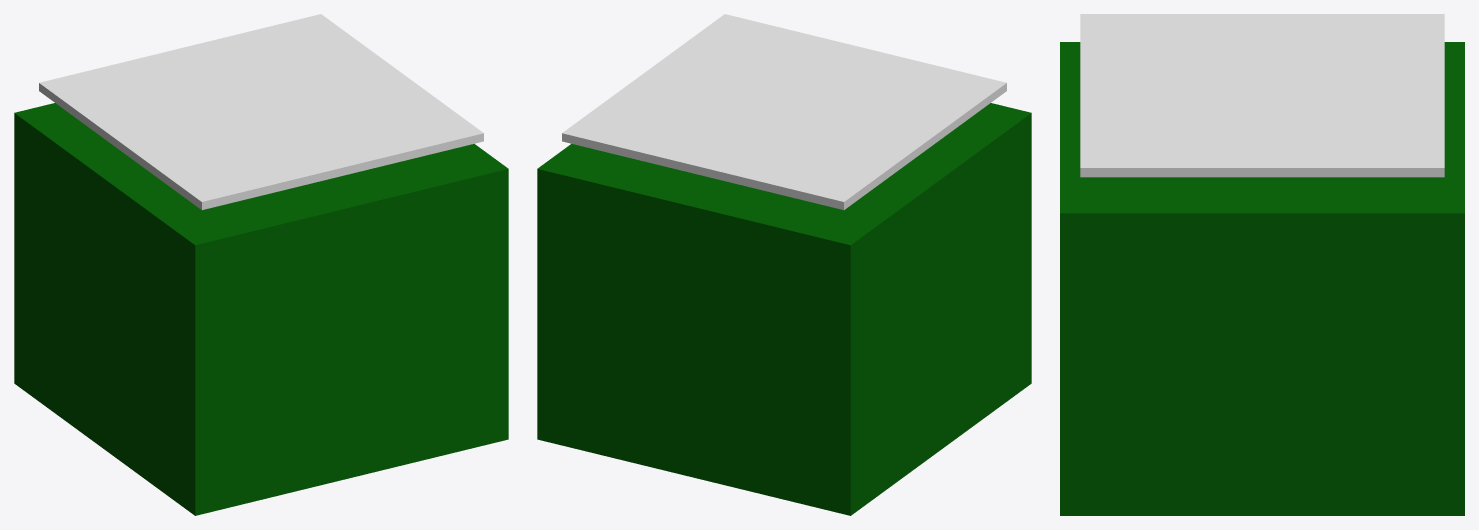
The model's file is White.obj.
3 views of the same model, side by side, from view 1: azimuth 30°, elevation 25°; view 2: azimuth 150°, elevation 25°; view 3: azimuth 270°, elevation 25° (orthographic). The views are drawn at different scales.
Bounding box in the file's own units: 4 × 3.7 × 4.
Materials: 1 (1 with a texture image).
